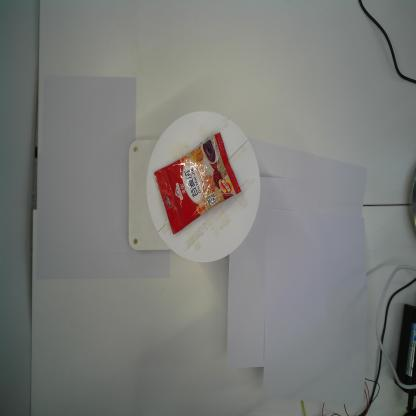Instant Drink: (153, 131, 243, 236)
